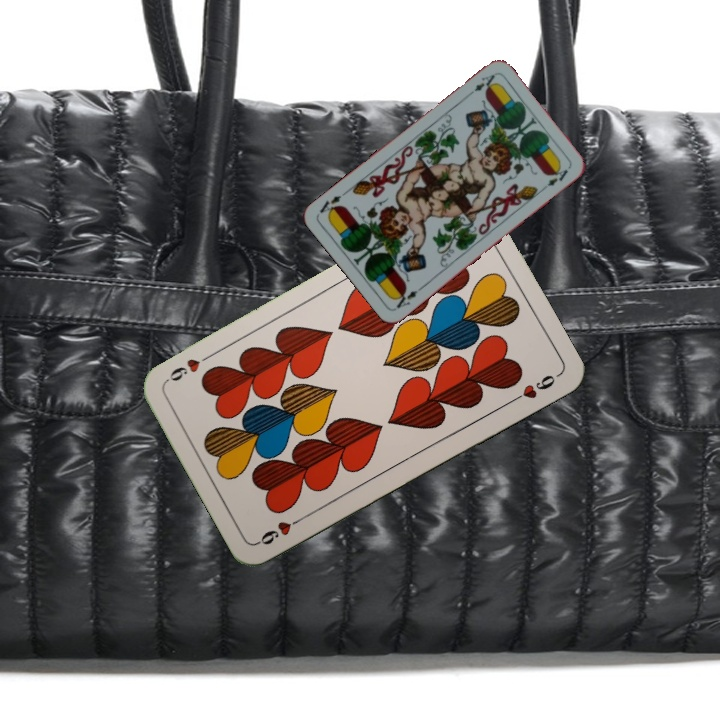EA: (390, 282, 426, 311), (463, 70, 498, 99)
H9: (253, 512, 308, 548)
